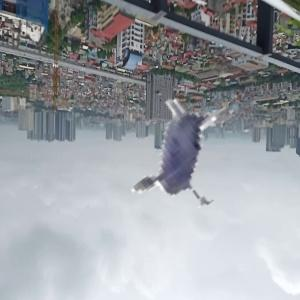drone: (78, 53, 279, 254)
